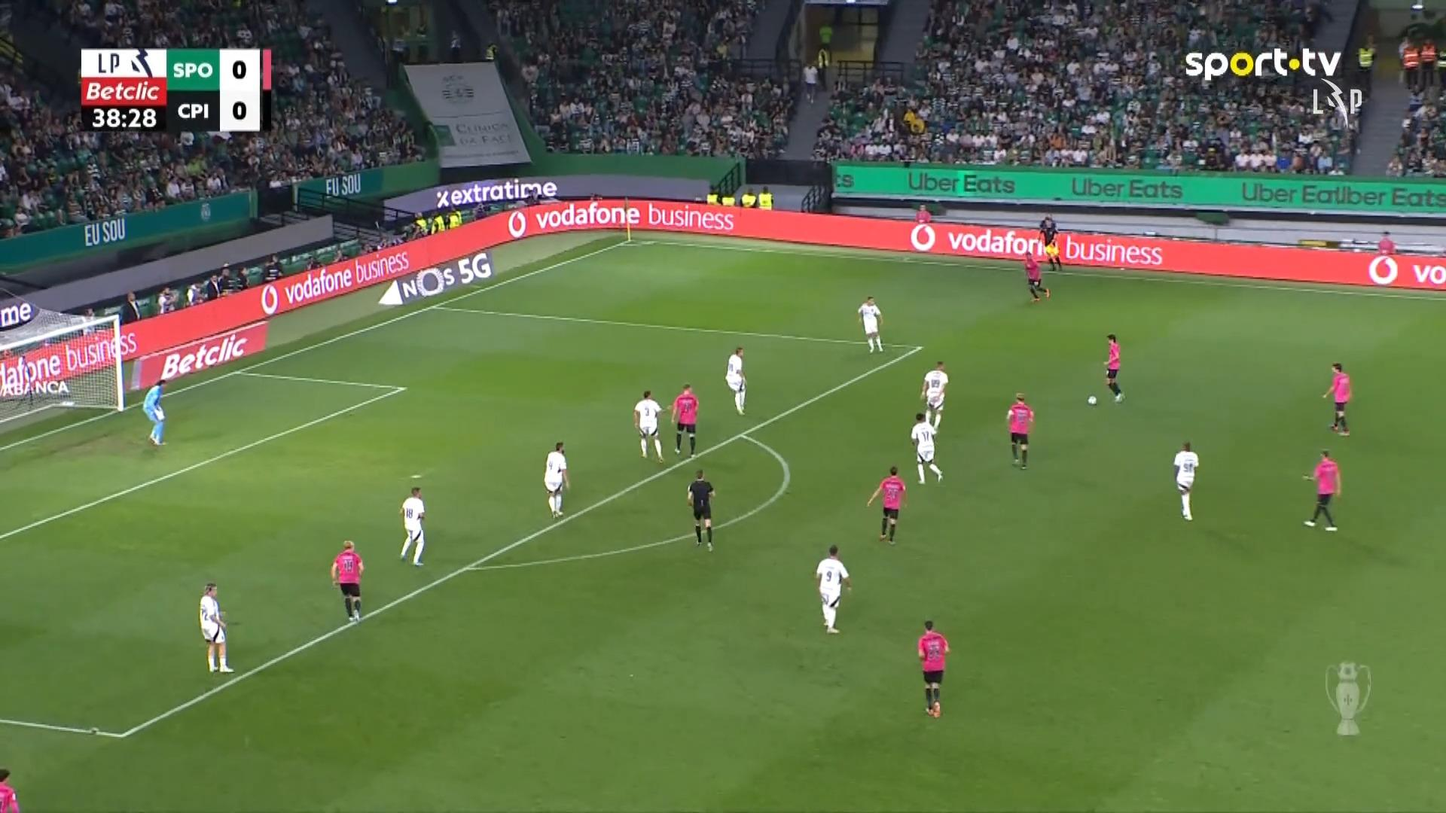ball: (1087, 395, 1097, 405)
goalkeeper: (142, 378, 167, 445)
player: (814, 544, 852, 634), (198, 582, 235, 673), (865, 465, 906, 544), (1302, 448, 1341, 531), (917, 619, 949, 717), (330, 540, 364, 623), (910, 411, 942, 484), (1005, 392, 1034, 469), (633, 390, 664, 462), (398, 486, 426, 565), (1322, 361, 1351, 436), (670, 383, 698, 458), (920, 359, 948, 432), (543, 440, 569, 518), (1173, 440, 1198, 520), (725, 346, 747, 415), (857, 295, 883, 353), (1103, 333, 1124, 402), (1023, 250, 1049, 303), (0, 766, 24, 813)
referee: (686, 468, 715, 552), (1038, 214, 1061, 270)
